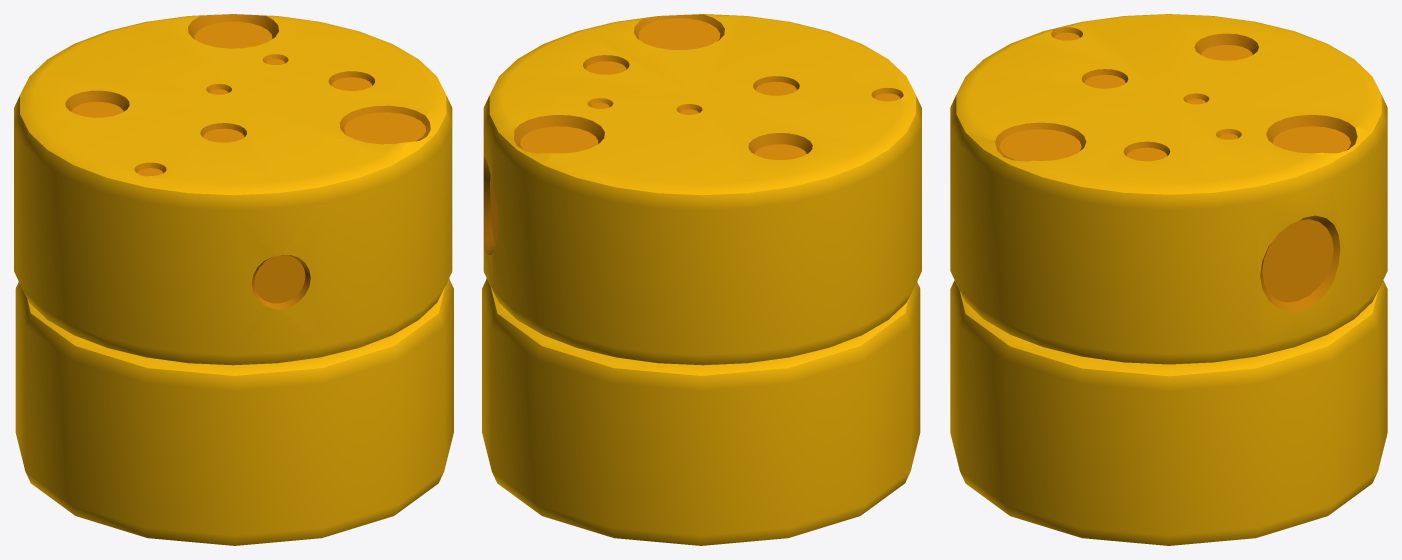
The model's file is Cheese Wheel.fbx.
3 renders of one model, left to right at view 1: azimuth 30°, elevation 25°; view 2: azimuth 150°, elevation 25°; view 3: azimuth 270°, elevation 25°, orthographic.
Parts seen in each view (by area): view 1: Cheese_Wheel, Cheese_Wheel1; view 2: Cheese_Wheel, Cheese_Wheel1; view 3: Cheese_Wheel, Cheese_Wheel1.
Part boxes in pixels (x1,y1,x2,y2): Cheese_Wheel: (14,14,452,365); Cheese_Wheel1: (15,278,453,545); Cheese_Wheel: (483,14,921,365); Cheese_Wheel1: (482,278,920,545); Cheese_Wheel: (950,14,1387,364); Cheese_Wheel1: (950,280,1387,545).
Size of the model in its own units: 63.65 by 57.43 by 63.04.
